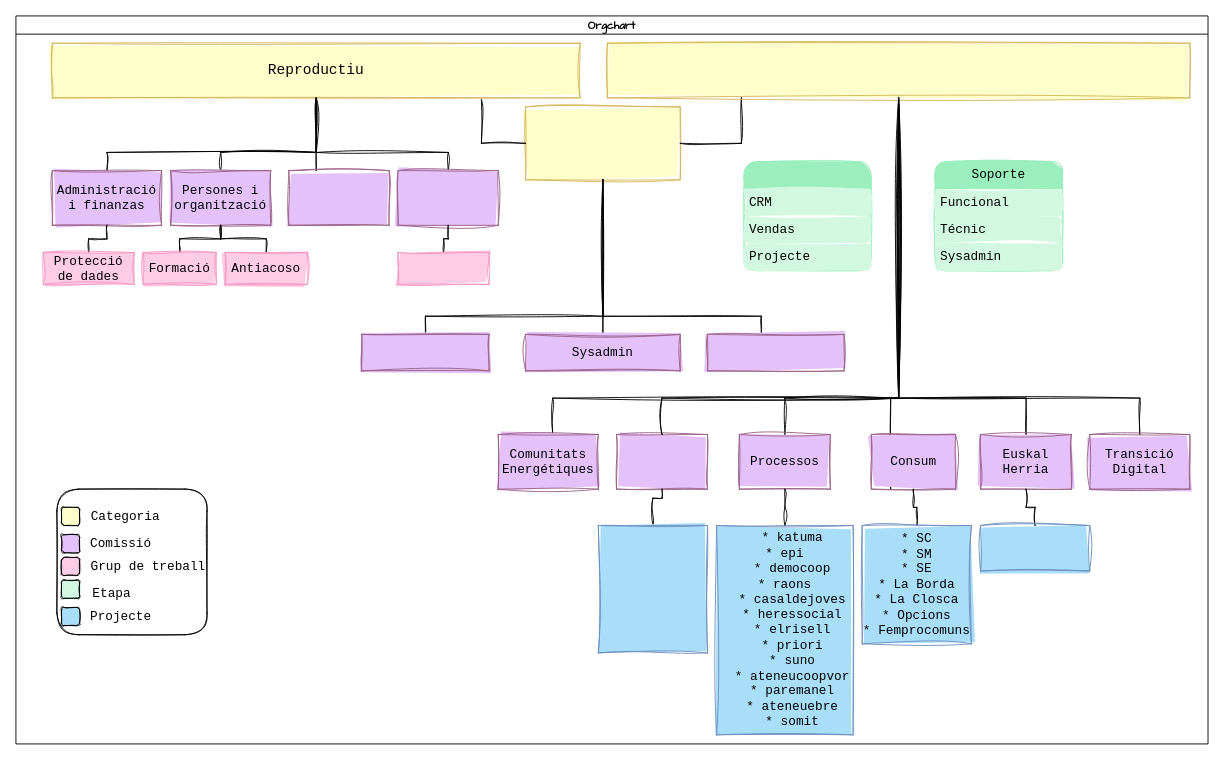
The diagram is 1224 pixels wide and 760 high, and some of its shapes have lost their labels. The box of each missing label's shape, as (x1, y1, x2, y2) in pixels:
* Agranel * Agresta * Aresta * Artiga * Bibaardoak * Foodcoop * La feixa *Lakari: (597, 525, 708, 653)
* Mitxelena * Talaios: (980, 525, 1090, 571)
Agro: (616, 434, 708, 489)
BI: (707, 334, 844, 371)
Comercial: (743, 161, 871, 271)
Comunicació i comunitat: (397, 170, 498, 225)
I + D: (525, 106, 680, 180)
IT Cooperatiu: (397, 252, 489, 284)
Odoo: (361, 334, 489, 371)
Organització del treball: (288, 170, 389, 225)
Productiu: (607, 42, 1190, 98)
